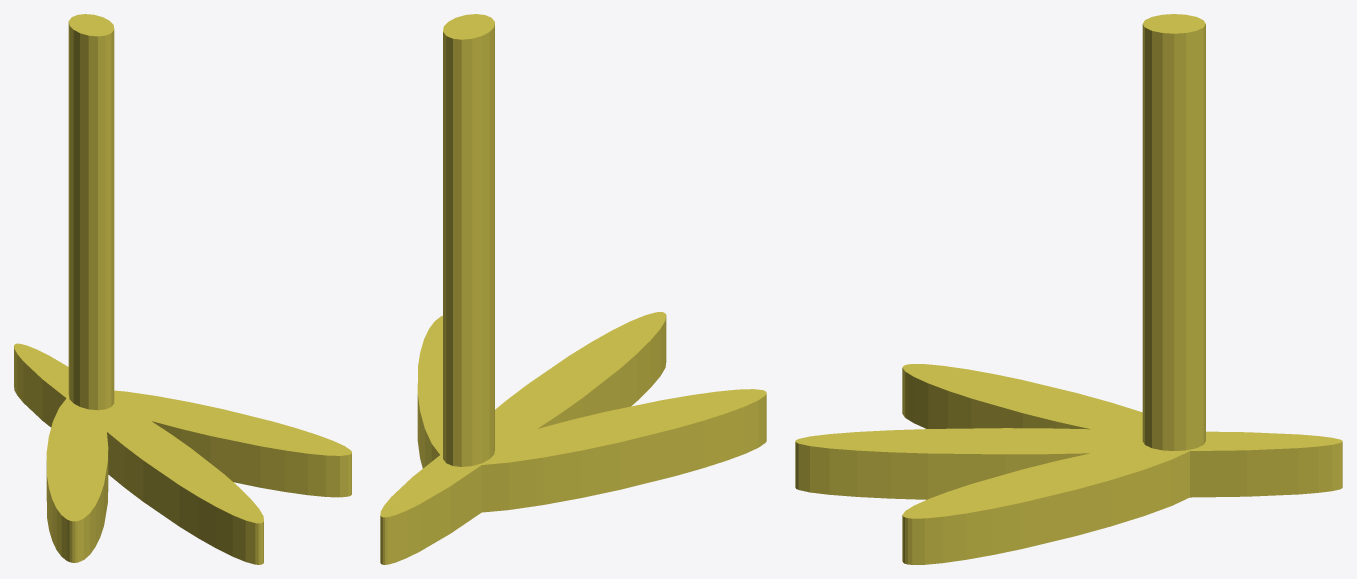
File: Pata-pollo.glb
The picture shows the model from 3 angles, left to right: view 1: azimuth 30°, elevation 25°; view 2: azimuth 150°, elevation 25°; view 3: azimuth 270°, elevation 25°; orthographic projection. The views are drawn at different scales.
Parts seen in each view (by area): view 1: Mesh_Mesh_head_geo.001_lambert2SG.001; view 2: Mesh_Mesh_head_geo.001_lambert2SG.001; view 3: Mesh_Mesh_head_geo.001_lambert2SG.001.
Part boxes in pixels (box(x1,y1,x2,y2)): Mesh_Mesh_head_geo.001_lambert2SG.001: box(14, 14, 351, 564); Mesh_Mesh_head_geo.001_lambert2SG.001: box(380, 14, 766, 564); Mesh_Mesh_head_geo.001_lambert2SG.001: box(795, 14, 1342, 564).
Size of the model in its own units: 0.0308 by 0.043 by 0.046.
